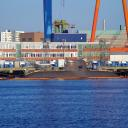submarine: (20, 60, 120, 80)
